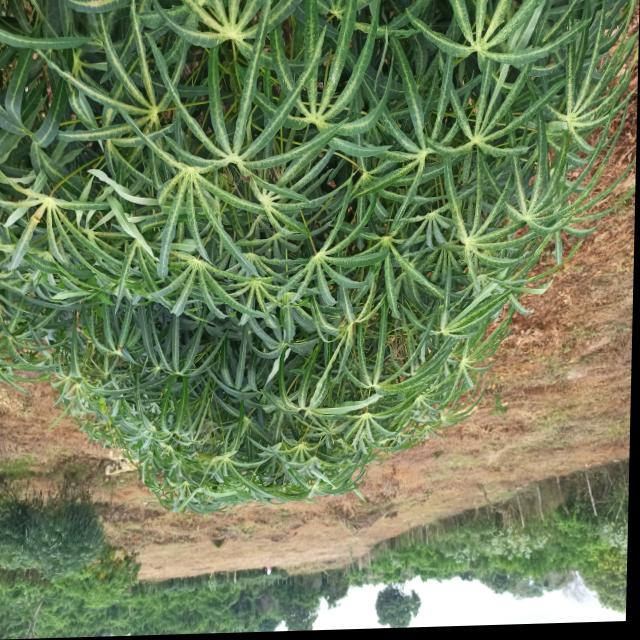Mosca: (43, 81, 65, 106), (16, 76, 31, 94), (262, 243, 278, 256), (600, 78, 612, 95), (27, 47, 40, 61)
